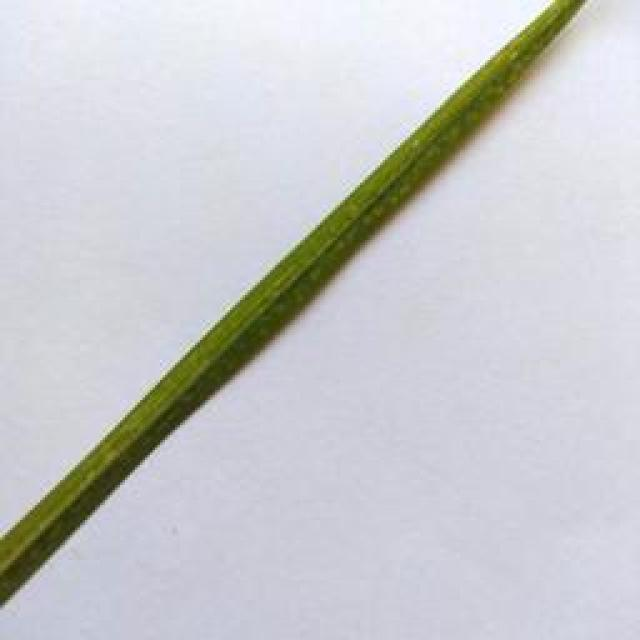Healthy-Plant: (0, 4, 587, 608)
